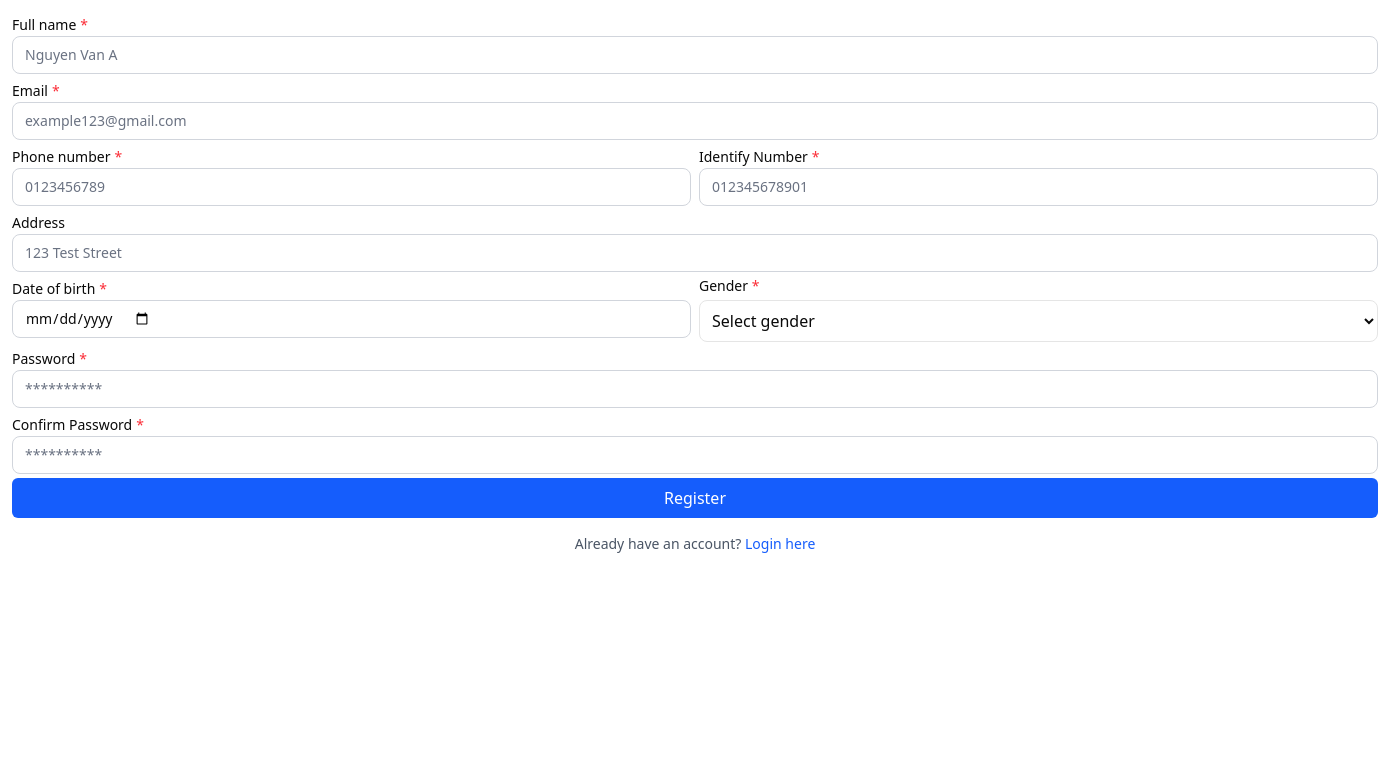
it: RegisterForm › shows validation errors when required fields are empty
This screenshot has width=1390, height=780.
Click the button "Register". click: click(695, 498)
box: left=12, top=478, right=1378, bottom=518
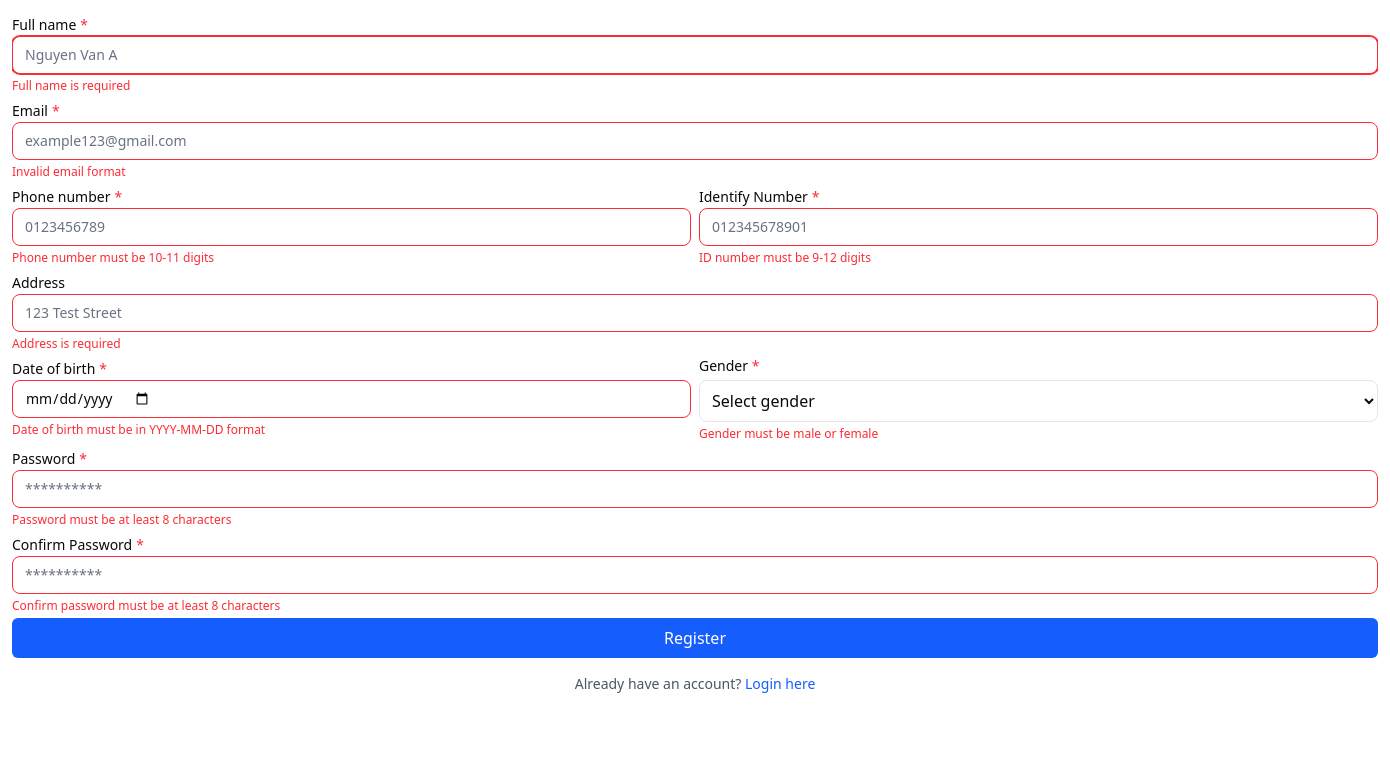
Expected: the text "Invalid email format" is shown, left=12, top=163, right=126, bottom=180
